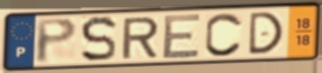C: (203, 11, 245, 58)
D: (246, 10, 285, 57)
E: (160, 12, 204, 61)
P: (34, 16, 79, 65)
R: (120, 15, 161, 61)
S: (78, 14, 118, 64)
